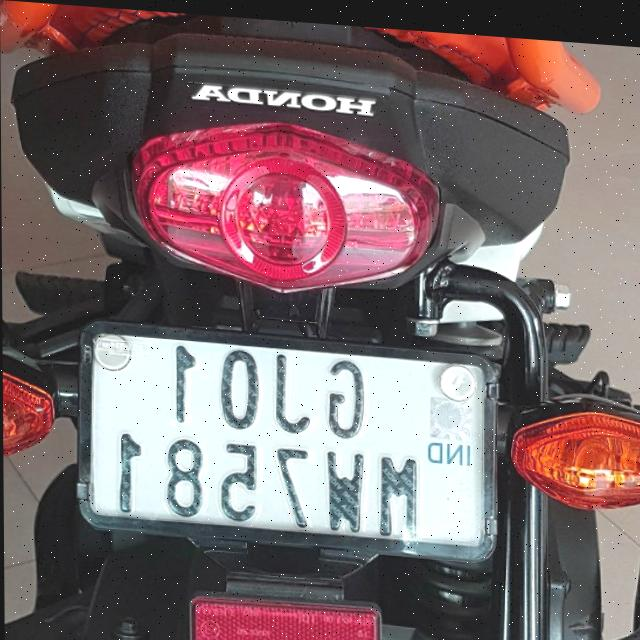plate: (70, 317, 504, 563)
